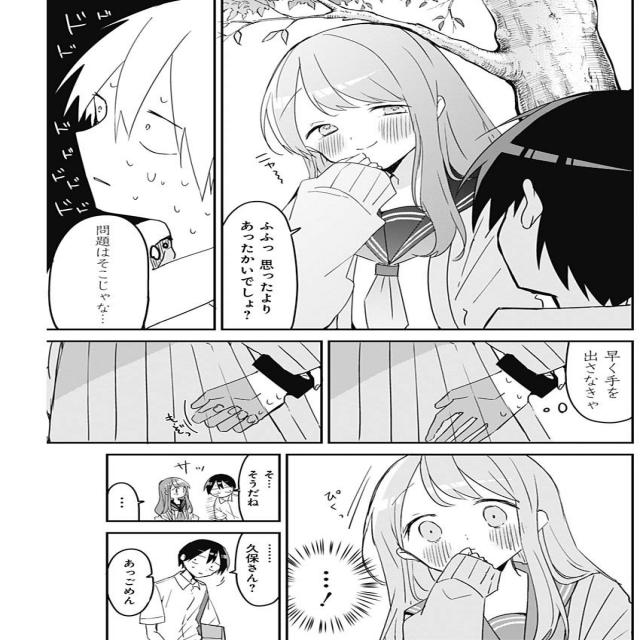Bubble: (47, 212, 151, 332), (218, 199, 299, 331), (284, 538, 382, 635), (562, 338, 634, 424), (226, 532, 279, 607), (107, 547, 154, 618), (236, 453, 281, 523), (107, 482, 144, 522)
